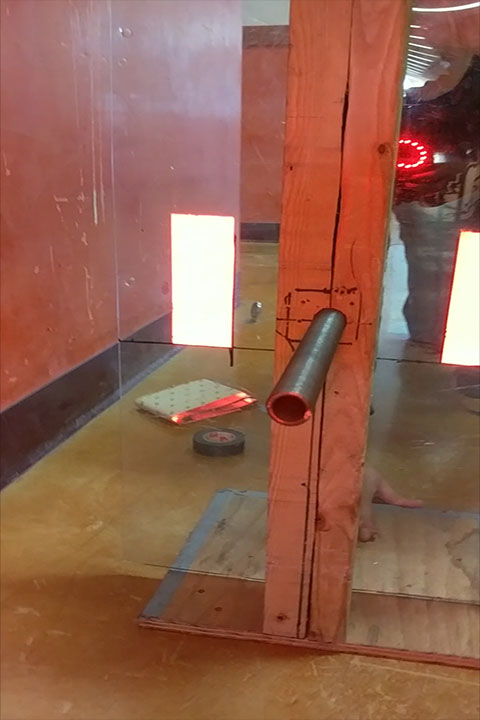gear: (169, 213, 234, 348), (439, 230, 480, 366)
